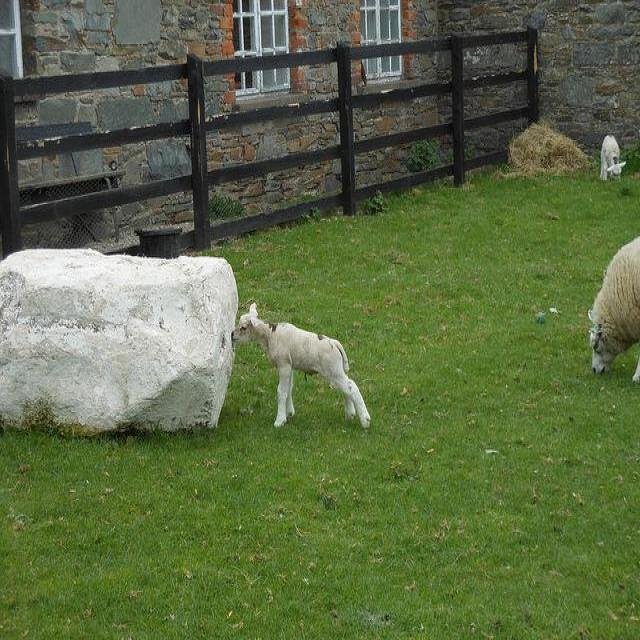Sheep: (230, 302, 372, 430), (586, 238, 639, 382)
